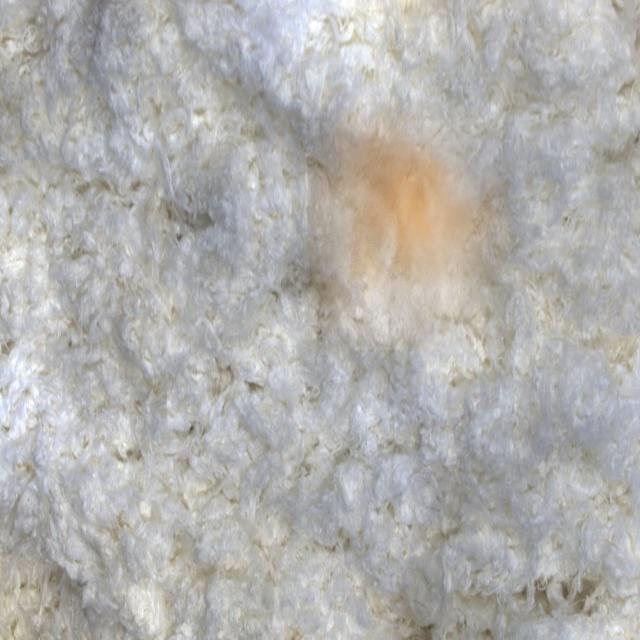dust: (307, 95, 508, 350)
